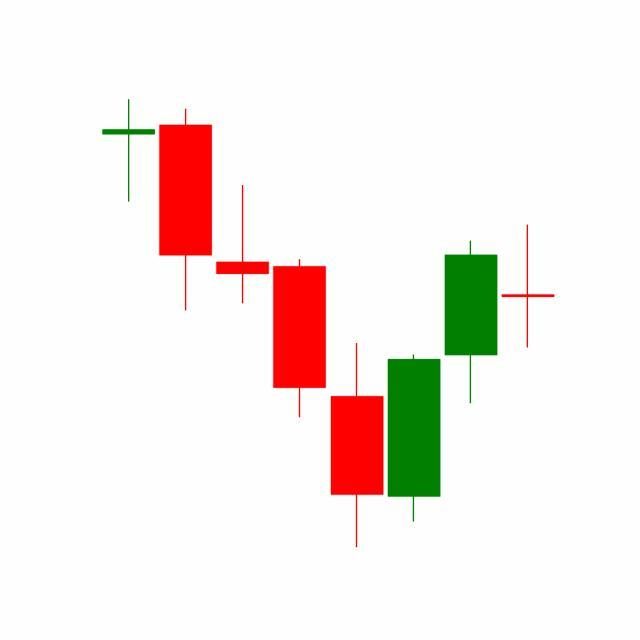Hikkake Pattern: (214, 181, 501, 549)
